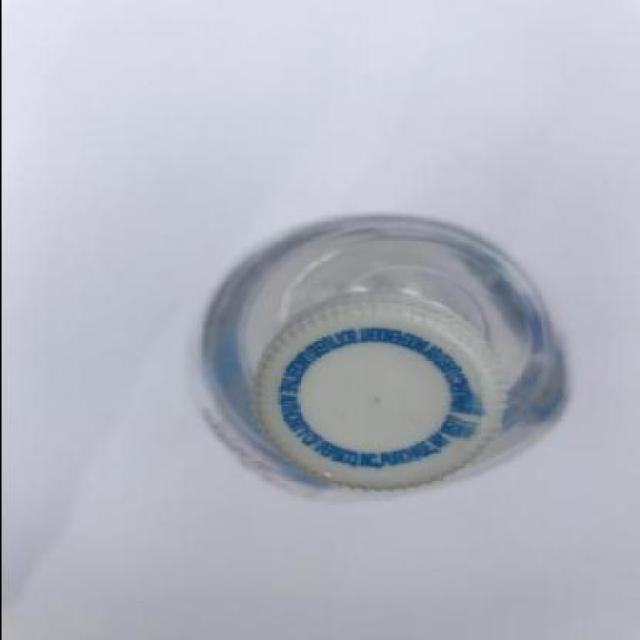PLASTIC: (193, 215, 572, 498), (248, 292, 512, 490)
